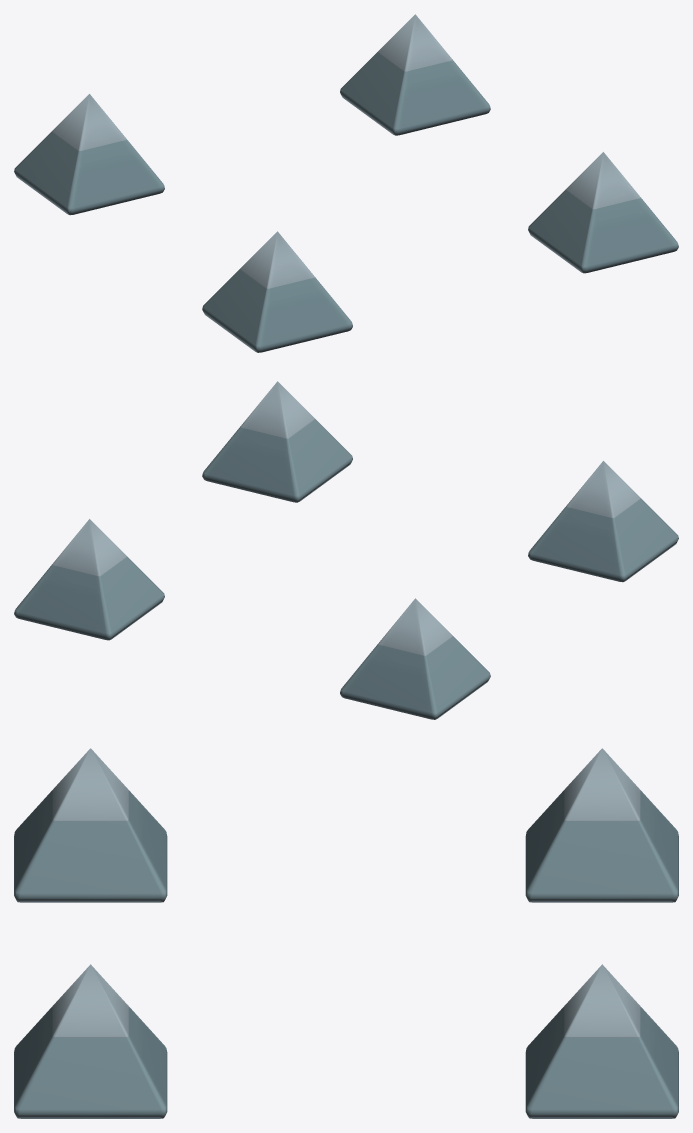
File: Props.fbx
The picture shows the model from 3 angles, top to bottom: view 1: azimuth 30°, elevation 25°; view 2: azimuth 150°, elevation 25°; view 3: azimuth 270°, elevation 25°; orthographic projection. The views are drawn at different scales.
Parts seen in each view (by area): view 1: 三角锥 (×4); view 2: 三角锥 (×4); view 3: 三角锥 (×4).
Boxes of the visible parts, box(x1,y1,x2,y2) form: 三角锥 (×4): box(14, 14, 678, 352); 三角锥 (×4): box(14, 381, 678, 719); 三角锥 (×4): box(14, 748, 678, 1118).
Size of the model in its own units: 15.59 by 3.19 by 15.6.
